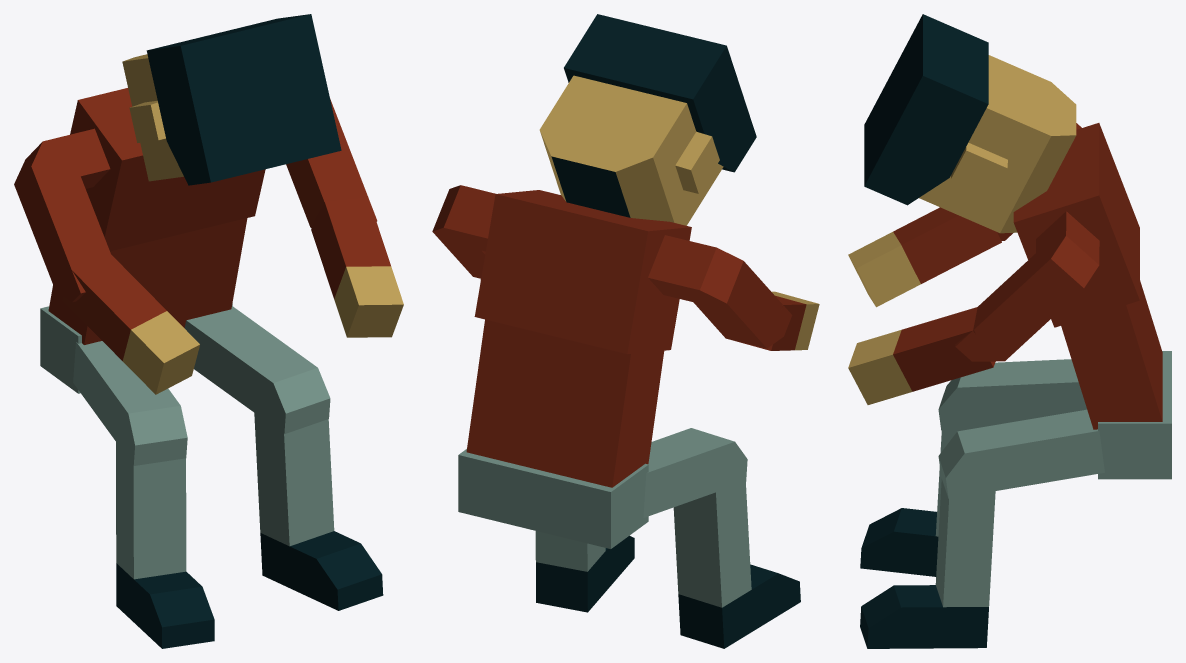
The model's file is sleepyGuy.fbx.
3 renders of one model, left to right at view 1: azimuth 30°, elevation 25°; view 2: azimuth 150°, elevation 25°; view 3: azimuth 270°, elevation 25°, orthographic. The views are drawn at different scales.
Parts seen in each view (by area): view 1: head, chest, r_upperleg1, l_upperarm, stomach, l_forearm1, l_forearm, r_lowerleg, r_upperleg, r_lowerleg1, r_shoe, r_shoe1 (+2 smaller); view 2: head, chest, stomach, butt, l_upperarm, r_lowerleg1, r_upperleg, r_shoe1, r_shoe, l_upperarm1, r_lowerleg, l_forearm1; view 3: head, chest, r_upperleg1, l_upperarm1, stomach, l_forearm, l_forearm1, r_upperleg, r_shoe, r_lowerleg, butt, r_shoe1 (+1 smaller).
Boxes of the visible parts, x1,y1,x2,y2 form: head: (122,14,341,185); chest: (70,88,265,251); r_upperleg1: (184,306,330,434); l_upperarm: (14,128,110,302); stomach: (48,218,247,344); l_forearm1: (62,254,199,394); l_forearm: (311,197,403,337); r_lowerleg: (254,413,334,546); r_upperleg: (73,341,187,465); r_lowerleg1: (115,437,186,579); r_shoe: (260,531,383,610); r_shoe1: (116,563,214,648); head: (539,14,756,225); chest: (474,190,691,353); stomach: (466,319,664,487); butt: (458,449,648,548); l_upperarm: (648,235,792,348); r_lowerleg1: (673,470,751,607); r_upperleg: (643,428,747,517); r_shoe1: (678,564,800,648); r_shoe: (536,535,634,612); l_upperarm1: (432,185,495,278); r_lowerleg: (535,531,605,571); l_forearm1: (734,291,819,350); head: (864,14,1076,233); chest: (1013,123,1139,327); r_upperleg1: (938,409,1104,498); l_upperarm1: (955,211,1099,361); stomach: (1061,280,1162,429); l_forearm: (848,307,995,404); l_forearm1: (848,207,1001,307); r_upperleg: (938,359,1086,430); r_shoe: (860,585,988,648); r_lowerleg: (935,479,995,607); butt: (1098,351,1171,479); r_shoe1: (860,508,938,576).
Bounding box in the file's own units: 238 × 442 × 232.
